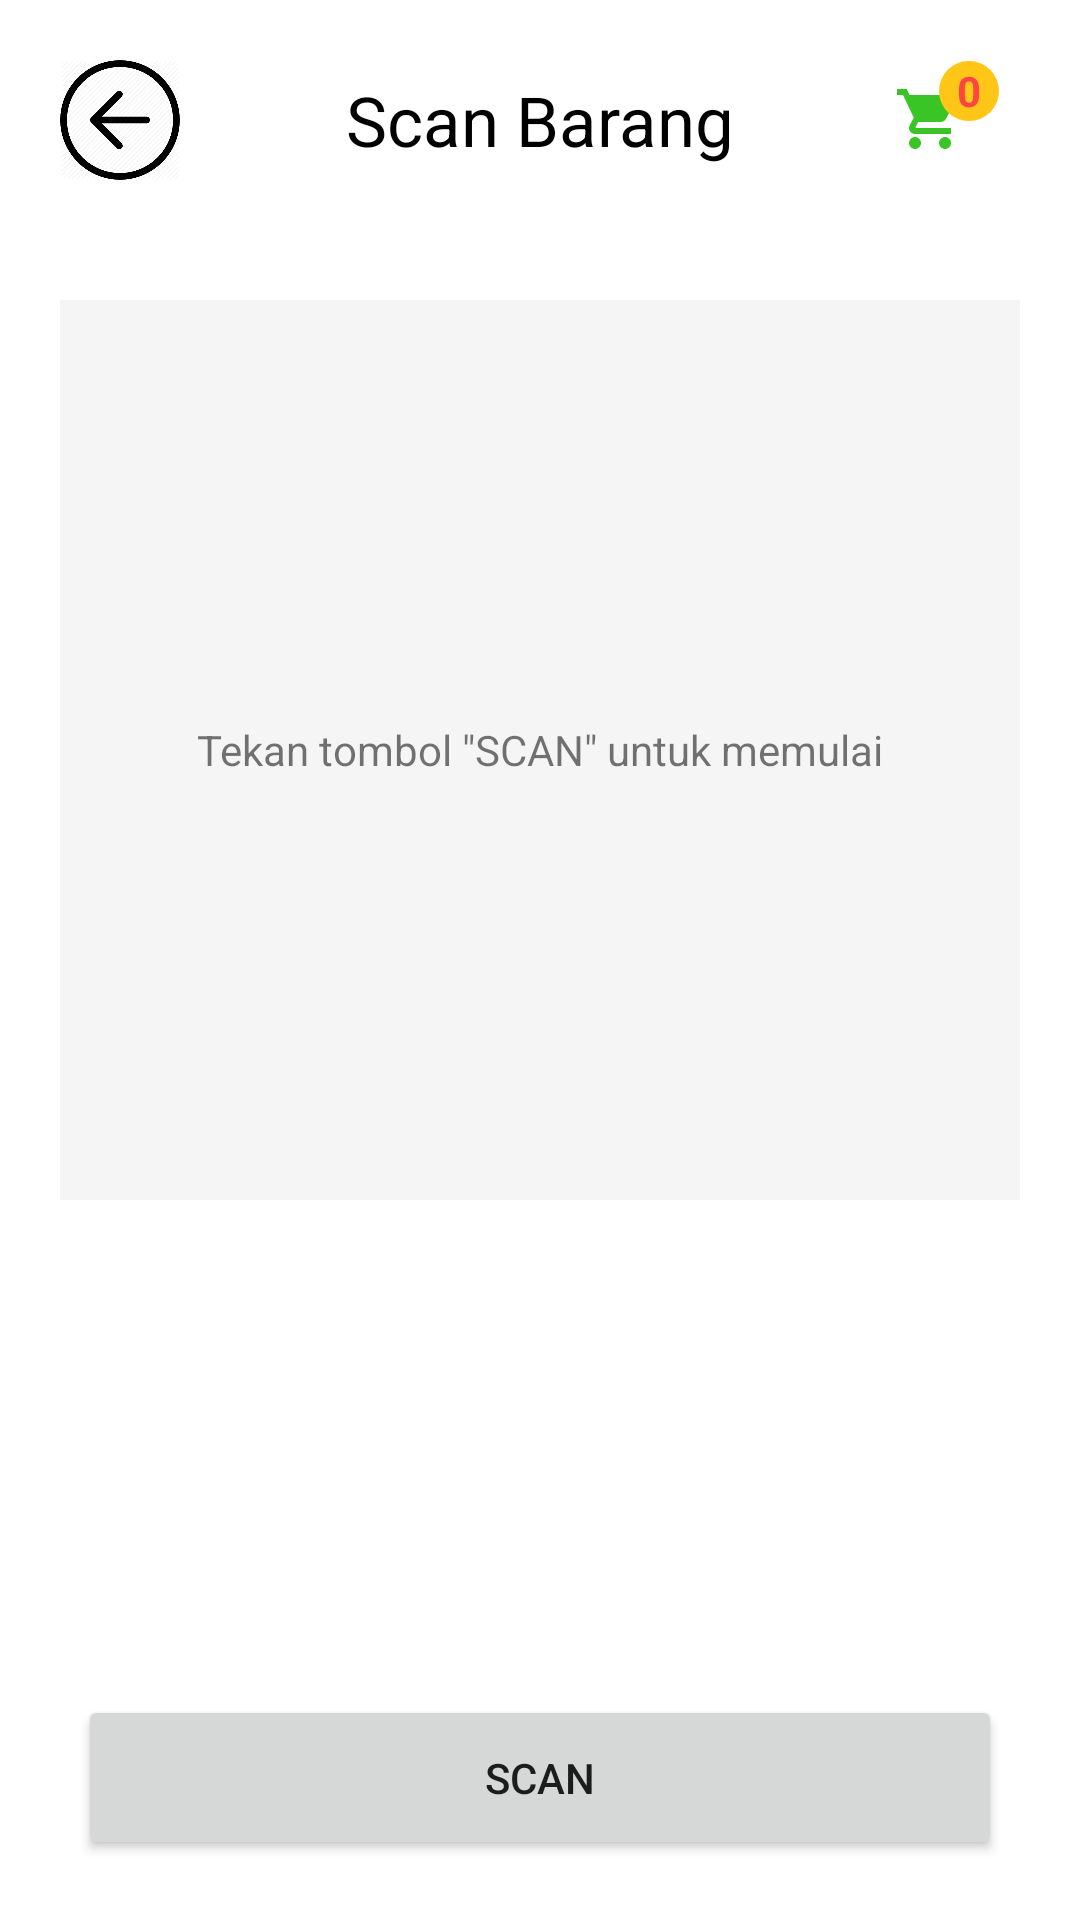

Icon click points for this 1080px×1920px phone screenshot, format [x,y]:
left arrow: [120,120]
